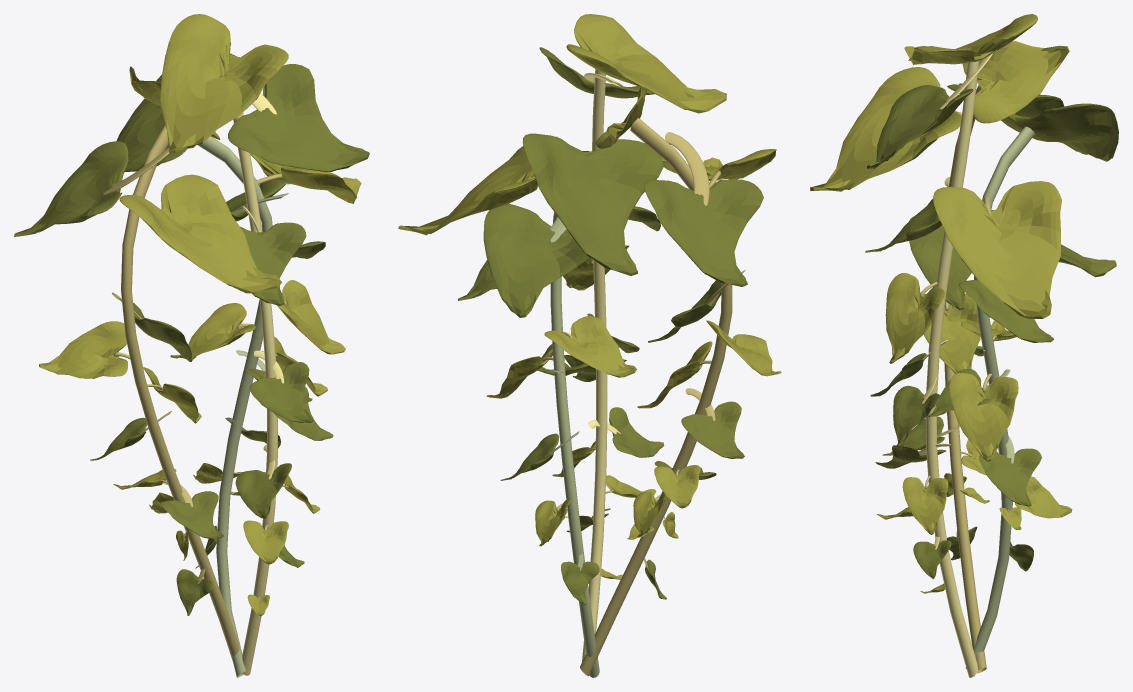
File: plant1.fbx
3 renders of one model, left to right at view 1: azimuth 30°, elevation 25°; view 2: azimuth 150°, elevation 25°; view 3: azimuth 270°, elevation 25°, orthographic.
Parts seen in each view (by area): view 1: Sphere.033, Sphere.031, Sphere.013, BézierCurve.003, BézierCurve.002, Sphere.012, BézierCurve.001, Sphere.029, Sphere.015, Sphere.007, Sphere.032, Sphere.027 (+12 smaller); view 2: Sphere.032, Sphere.012, Sphere.011, Sphere.033, BézierCurve.003, BézierCurve.001, BézierCurve.002, Sphere.030, Sphere.025, Sphere.008, Sphere.029, Sphere.005 (+14 smaller); view 3: Sphere.030, Sphere.031, BézierCurve.001, Sphere.034, Sphere.032, Sphere.026, BézierCurve.002, Sphere.013, BézierCurve.003, Sphere.027, Sphere.033, Sphere.028 (+15 smaller).
Boxes of the visible parts, box(x1,y1,x2,y2) form: Sphere.033: box(160, 14, 288, 153); Sphere.031: box(119, 174, 281, 293); Sphere.013: box(228, 64, 369, 171); BézierCurve.003: box(121, 124, 239, 661); BézierCurve.002: box(197, 136, 272, 677); Sphere.012: box(14, 141, 128, 236); BézierCurve.001: box(233, 112, 277, 675); Sphere.029: box(39, 321, 127, 378); Sphere.015: box(240, 222, 306, 305); Sphere.007: box(249, 362, 313, 422); Sphere.032: box(116, 75, 186, 172); Sphere.027: box(277, 280, 345, 354); Sphere.032: box(522, 133, 663, 275); Sphere.012: box(644, 179, 763, 286); Sphere.011: box(483, 203, 589, 317); Sphere.033: box(566, 14, 726, 113); BézierCurve.003: box(580, 118, 732, 675); BézierCurve.001: box(582, 69, 607, 661); BézierCurve.002: box(550, 212, 599, 677); Sphere.030: box(398, 136, 558, 235); Sphere.025: box(544, 316, 636, 377); Sphere.008: box(681, 401, 744, 458); Sphere.029: box(706, 320, 781, 376); Sphere.005: box(609, 407, 664, 457); Sphere.030: box(933, 181, 1061, 318); Sphere.031: box(810, 67, 961, 191); BézierCurve.001: box(926, 61, 979, 677); Sphere.034: box(962, 41, 1069, 123); Sphere.032: box(1001, 103, 1118, 161); Sphere.026: box(949, 373, 1018, 461); BézierCurve.002: box(965, 126, 1034, 676); Sphere.013: box(867, 85, 973, 168); BézierCurve.003: box(944, 85, 986, 673); Sphere.027: box(885, 273, 945, 363); Sphere.033: box(904, 14, 1037, 64); Sphere.028: box(923, 293, 980, 373).
Bounding box in the file's own units: 218 × 385 × 166.
